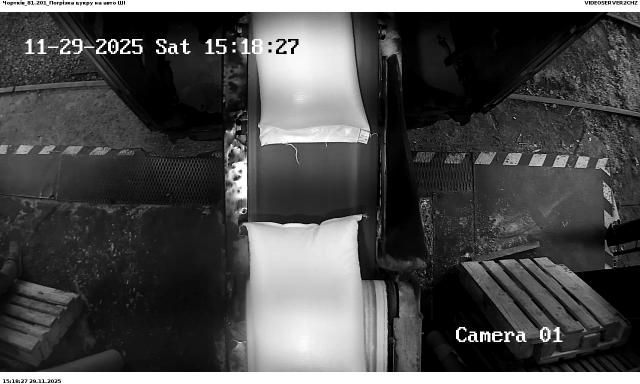bag: (242, 214, 371, 372), (253, 12, 371, 153)
